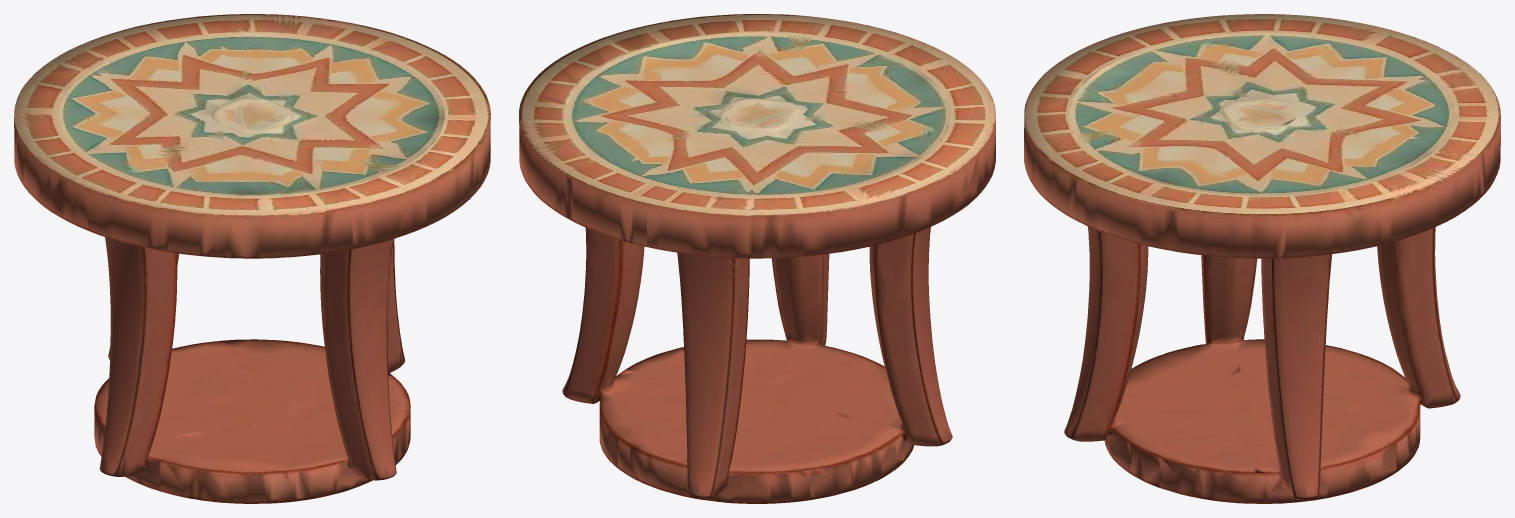
File: mosaiktisch_a.glb
3 views of the same model, side by side, from view 1: azimuth 30°, elevation 25°; view 2: azimuth 150°, elevation 25°; view 3: azimuth 270°, elevation 25° (orthographic).
Parts seen in each view (by area): view 1: tripo_node_6f27311e-57a9-4274-b9c5-7728db87ef67; view 2: tripo_node_6f27311e-57a9-4274-b9c5-7728db87ef67; view 3: tripo_node_6f27311e-57a9-4274-b9c5-7728db87ef67.
Boxes of the visible parts, x1,y1,x2,y2 form: tripo_node_6f27311e-57a9-4274-b9c5-7728db87ef67: (14,14,490,503); tripo_node_6f27311e-57a9-4274-b9c5-7728db87ef67: (519,14,995,503); tripo_node_6f27311e-57a9-4274-b9c5-7728db87ef67: (1024,14,1500,503).
Bounding box in the file's own units: 1 × 0.7485 × 1.
1 material, 1 textured.
